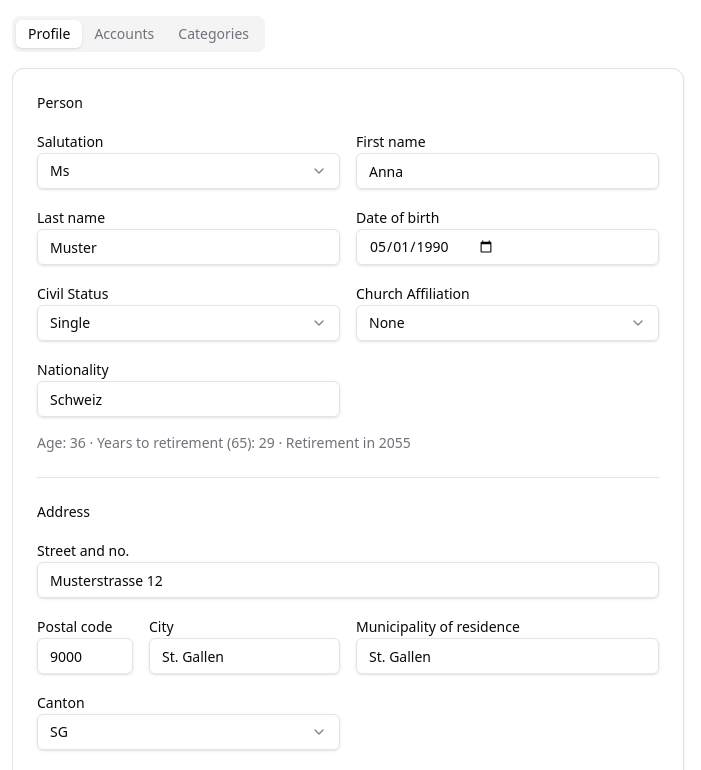
Scenario: Settings › saves the profile and flashes a confirmation
Type "1985-03-15" into the date field labelled "Date of birth" at (508, 247), box [356, 229, 659, 265]
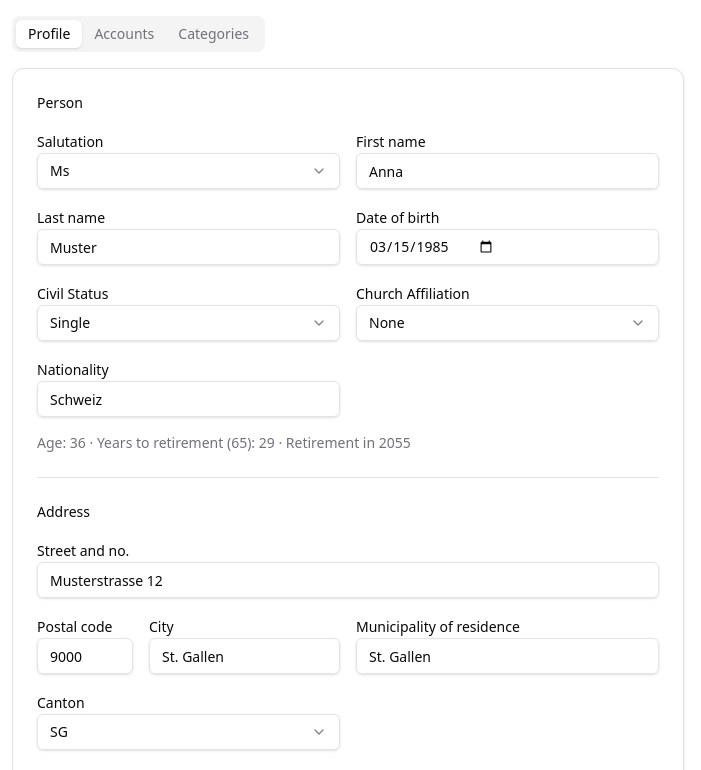
Replace the text in the field labelled "Municipality of residence" with "Gossau" at (508, 656), box [356, 638, 659, 674]
(page scrolled)
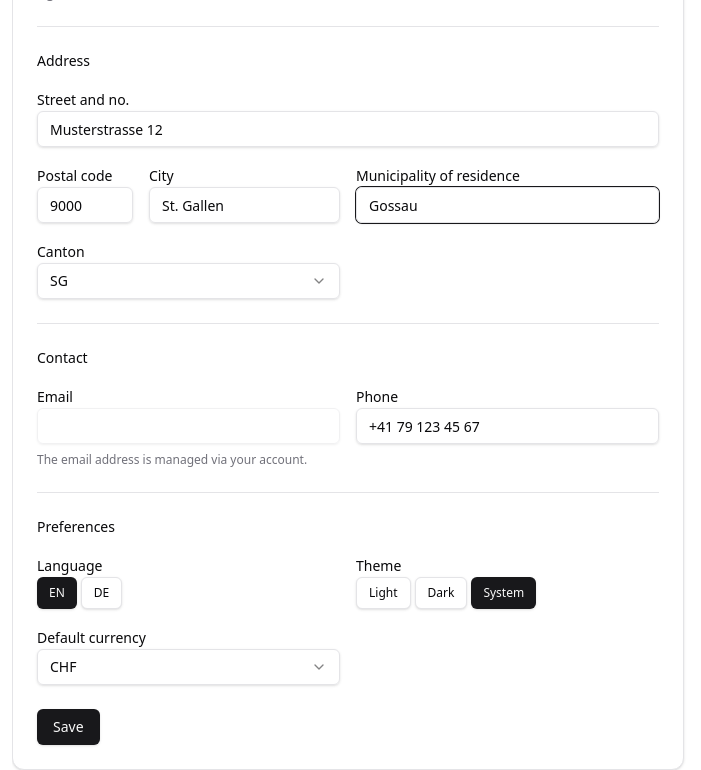
Click the button "Save" at (68, 727), box [37, 709, 100, 745]
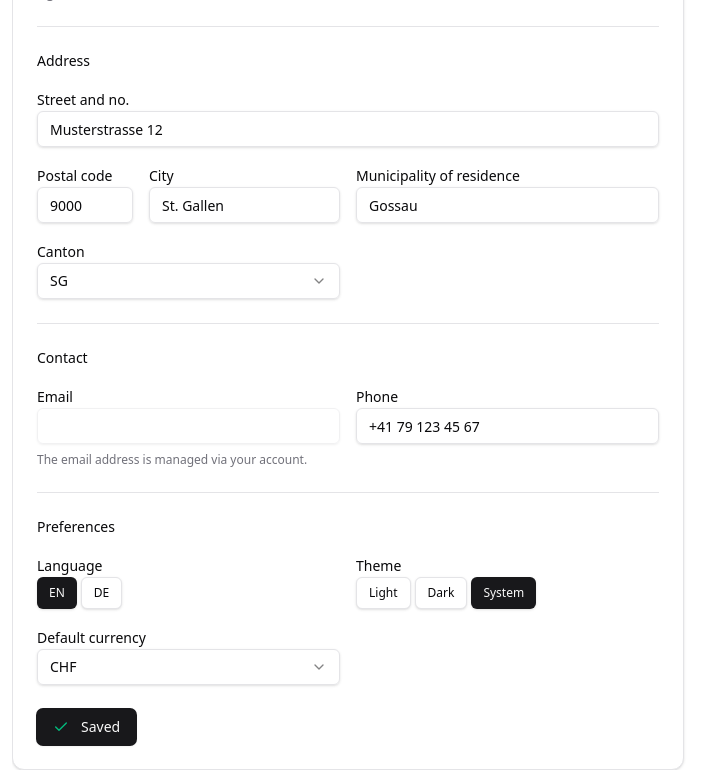
Expected: the button "Saved" is shown, [37, 709, 136, 745]
